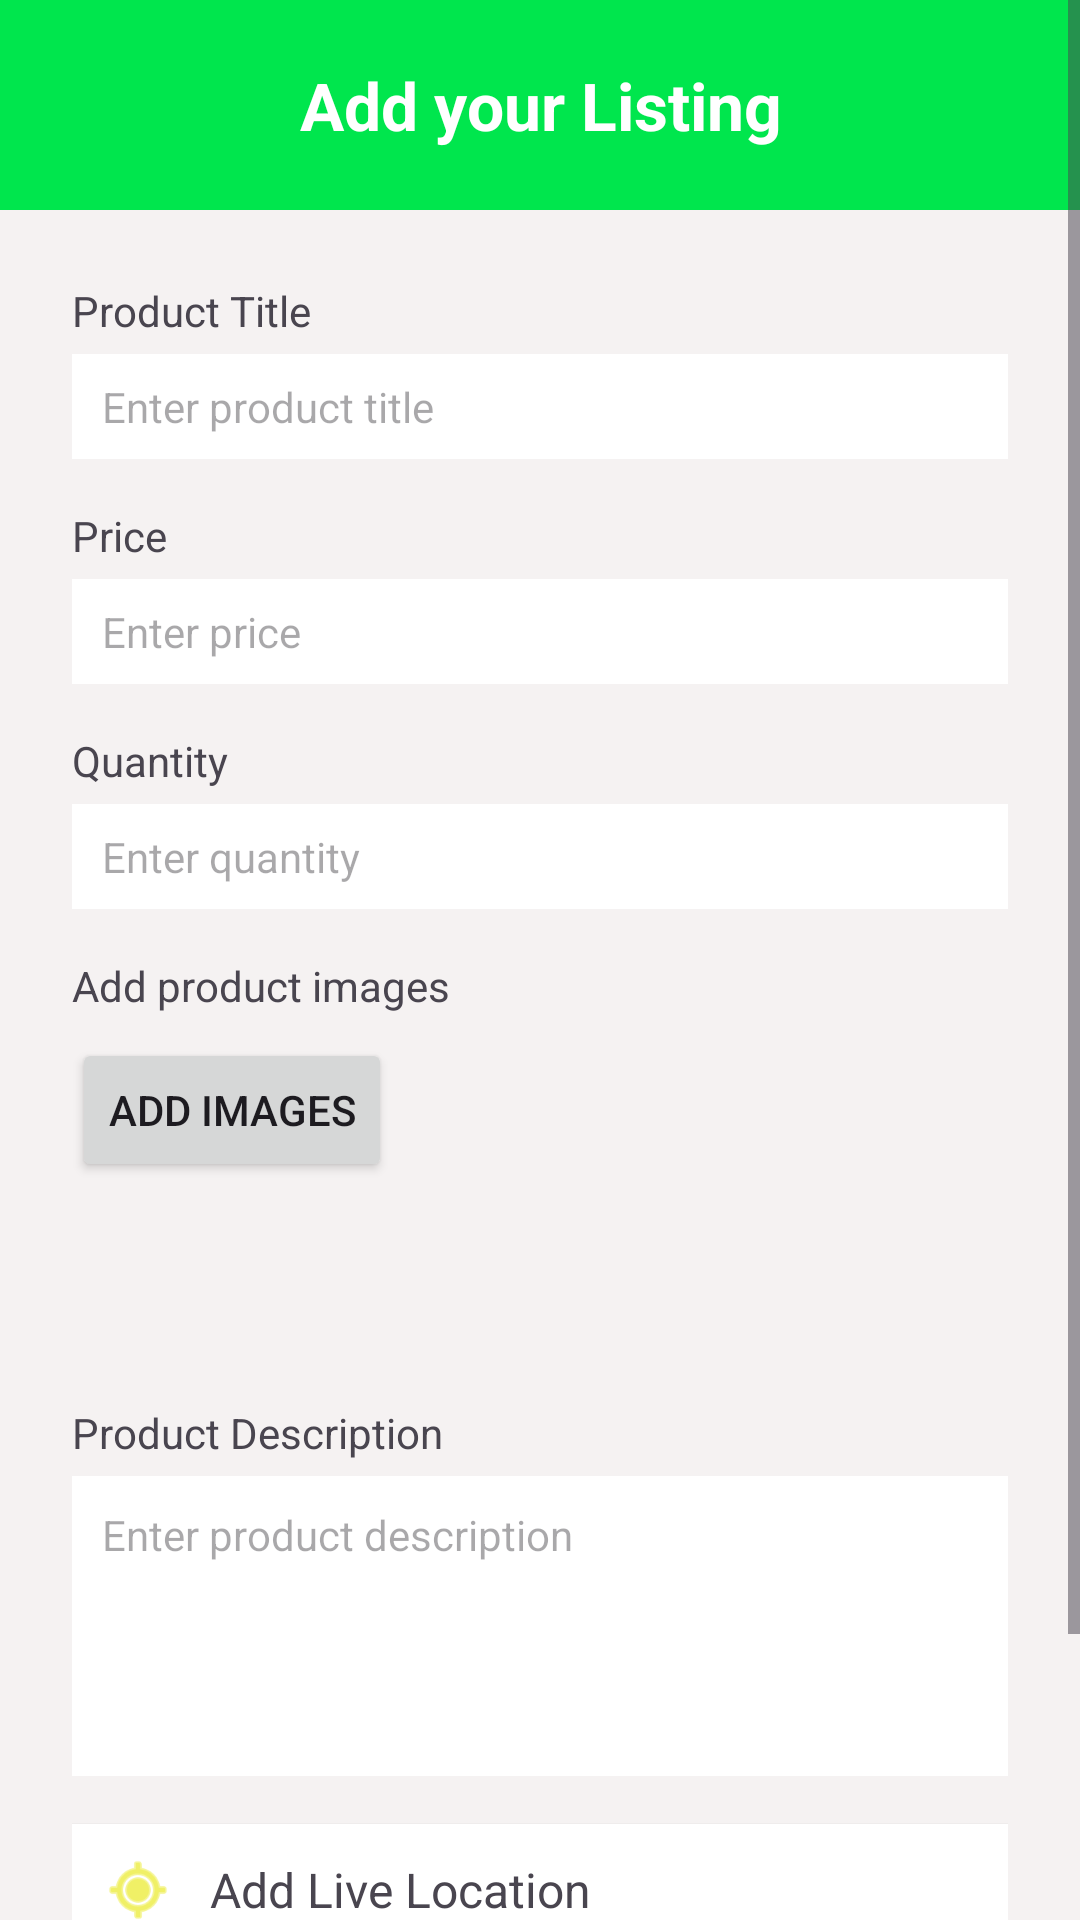

Point at icon controls on the screen. Image size 1080 x 1920, points as point (x, y).
mylocation: point (138, 1890)
